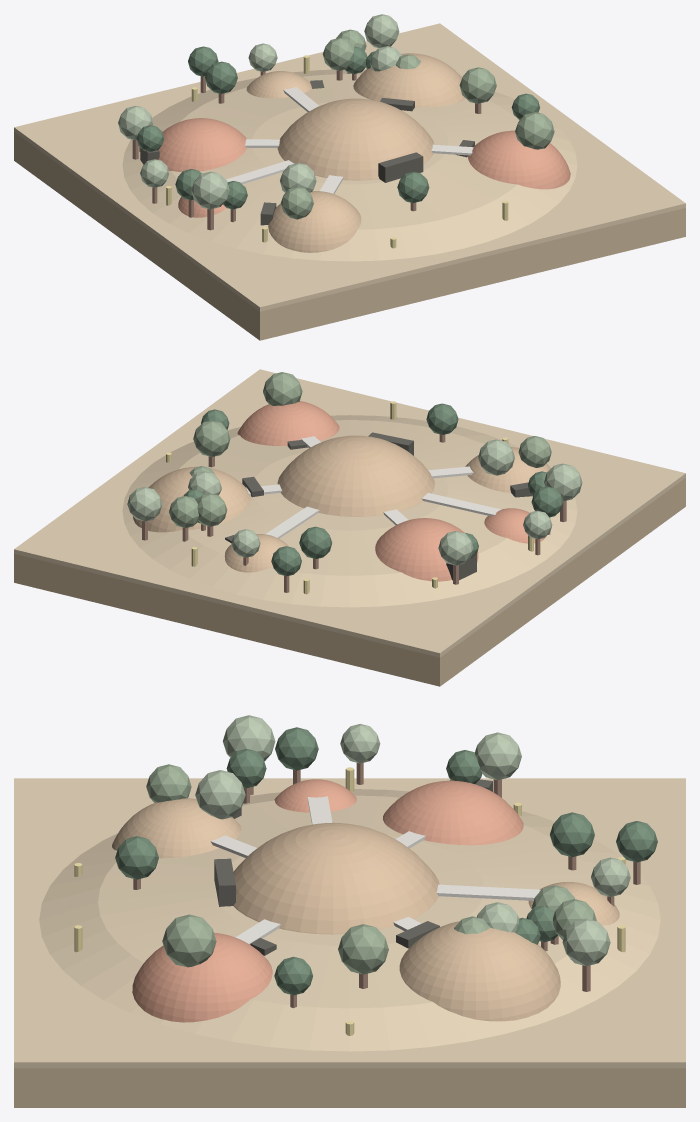
The model's file is pavillon_03.glb.
3 views of the same model, one above another, from view 1: azimuth 30°, elevation 25°; view 2: azimuth 150°, elevation 25°; view 3: azimuth 270°, elevation 25° (orthographic). The views are drawn at different scales.
Parts seen in each view (by area): view 1: pavillon_03_socle, pavillon_03_pise, pavillon_03_chant, pavillon_03_pise2, pavillon_03_terre, pavillon_03_vert, pavillon_03_vertf, pavillon_03_vert2, pavillon_03_sombre, pavillon_03_carton2, pavillon_03_brun, pavillon_03_jaune; view 2: pavillon_03_socle, pavillon_03_pise, pavillon_03_chant, pavillon_03_pise2, pavillon_03_terre, pavillon_03_vert, pavillon_03_vert2, pavillon_03_vertf, pavillon_03_carton2, pavillon_03_sombre, pavillon_03_brun, pavillon_03_jaune; view 3: pavillon_03_socle, pavillon_03_pise, pavillon_03_pise2, pavillon_03_chant, pavillon_03_terre, pavillon_03_vert, pavillon_03_vertf, pavillon_03_vert2, pavillon_03_carton2, pavillon_03_sombre, pavillon_03_brun, pavillon_03_jaune.
Part boxes in pixels (x1=…): pavillon_03_socle: x1=14, y1=23, x2=685, y2=311; pavillon_03_pise: x1=122, y1=69, x2=577, y2=261; pavillon_03_chant: x1=14, y1=132, x2=685, y2=340; pavillon_03_pise2: x1=246, y1=53, x2=465, y2=252; pavillon_03_terre: x1=158, y1=118, x2=570, y2=217; pavillon_03_vert: x1=118, y1=14, x2=401, y2=209; pavillon_03_vertf: x1=136, y1=46, x2=540, y2=209; pavillon_03_vert2: x1=281, y1=29, x2=554, y2=219; pavillon_03_sombre: x1=140, y1=80, x2=474, y2=225; pavillon_03_carton2: x1=226, y1=87, x2=473, y2=193; pavillon_03_brun: x1=132, y1=70, x2=481, y2=230; pavillon_03_jaune: x1=139, y1=55, x2=508, y2=248; pavillon_03_socle: x1=14, y1=369, x2=685, y2=657; pavillon_03_pise: x1=122, y1=415, x2=577, y2=607; pavillon_03_chant: x1=14, y1=478, x2=685, y2=686; pavillon_03_pise2: x1=133, y1=435, x2=550, y2=572; pavillon_03_terre: x1=237, y1=401, x2=546, y2=581; pavillon_03_vert: x1=127, y1=439, x2=582, y2=565; pavillon_03_vert2: x1=169, y1=372, x2=551, y2=528; pavillon_03_vertf: x1=183, y1=403, x2=563, y2=576; pavillon_03_carton2: x1=246, y1=436, x2=501, y2=538; pavillon_03_sombre: x1=225, y1=432, x2=532, y2=580; pavillon_03_brun: x1=142, y1=434, x2=566, y2=592; pavillon_03_jaune: x1=166, y1=401, x2=533, y2=594; pavillon_03_socle: x1=14, y1=778, x2=685, y2=1068; pavillon_03_pise: x1=39, y1=789, x2=660, y2=1051; pavillon_03_pise2: x1=112, y1=798, x2=619, y2=1021; pavillon_03_chant: x1=14, y1=1068, x2=685, y2=1107; pavillon_03_terre: x1=132, y1=779, x2=523, y2=1022; pavillon_03_vert: x1=195, y1=715, x2=630, y2=966; pavillon_03_vertf: x1=115, y1=727, x2=657, y2=995; pavillon_03_vert2: x1=146, y1=764, x2=596, y2=974; pavillon_03_carton2: x1=210, y1=796, x2=540, y2=944; pavillon_03_sombre: x1=214, y1=779, x2=492, y2=955; pavillon_03_brun: x1=133, y1=763, x2=640, y2=1008; pavillon_03_jaune: x1=74, y1=767, x2=625, y2=1035.
Size of the model in its own units: 0.4 by 0.0874 by 0.4.
